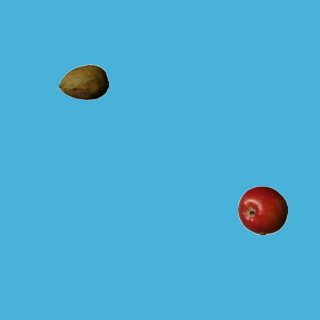Apple Braeburn: (237, 185, 287, 235)
Papaya: (58, 57, 108, 107)
